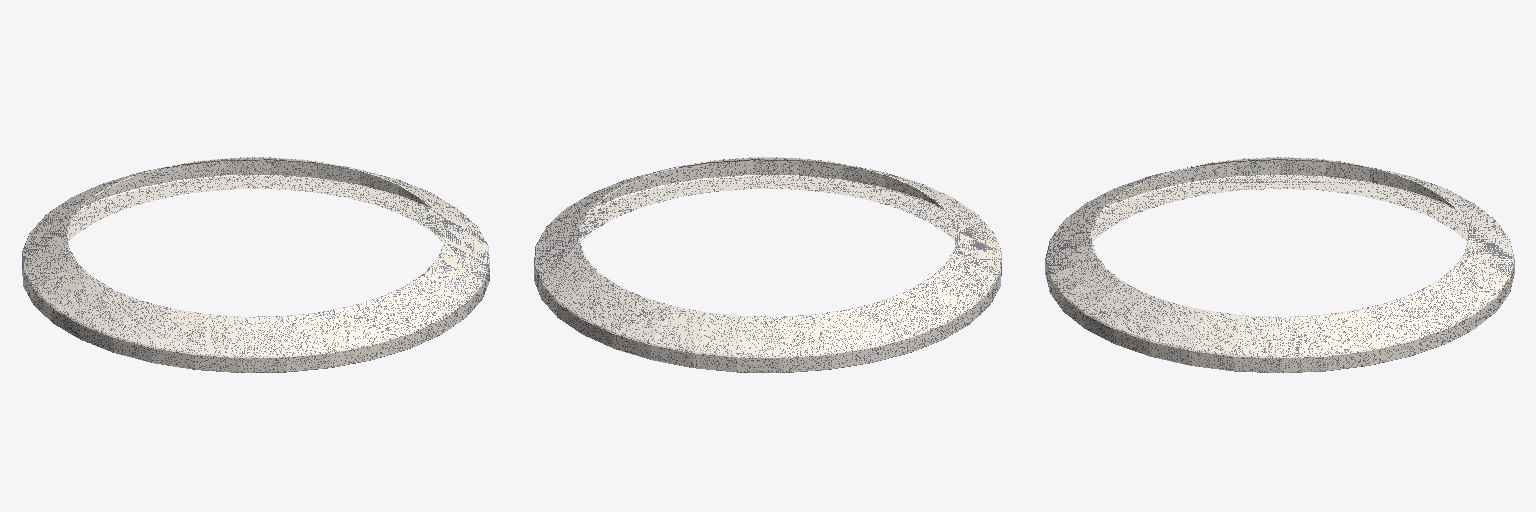
Rendered from original-61.obj.
3 views of the same model, side by side, from view 1: azimuth 30°, elevation 25°; view 2: azimuth 150°, elevation 25°; view 3: azimuth 270°, elevation 25° (orthographic).
Visible parts, largest first — view 1: mesh58/mesh58-geometry#mesh58-geometry; view 2: mesh58/mesh58-geometry#mesh58-geometry; view 3: mesh58/mesh58-geometry#mesh58-geometry.
Boxes of the visible parts, x1=… form: mesh58/mesh58-geometry#mesh58-geometry: x1=22, y1=157, x2=489, y2=372; mesh58/mesh58-geometry#mesh58-geometry: x1=534, y1=157, x2=1001, y2=372; mesh58/mesh58-geometry#mesh58-geometry: x1=1045, y1=157, x2=1514, y2=372.
Size of the model in its own units: 0.1756 by 0.0155 by 0.1756.